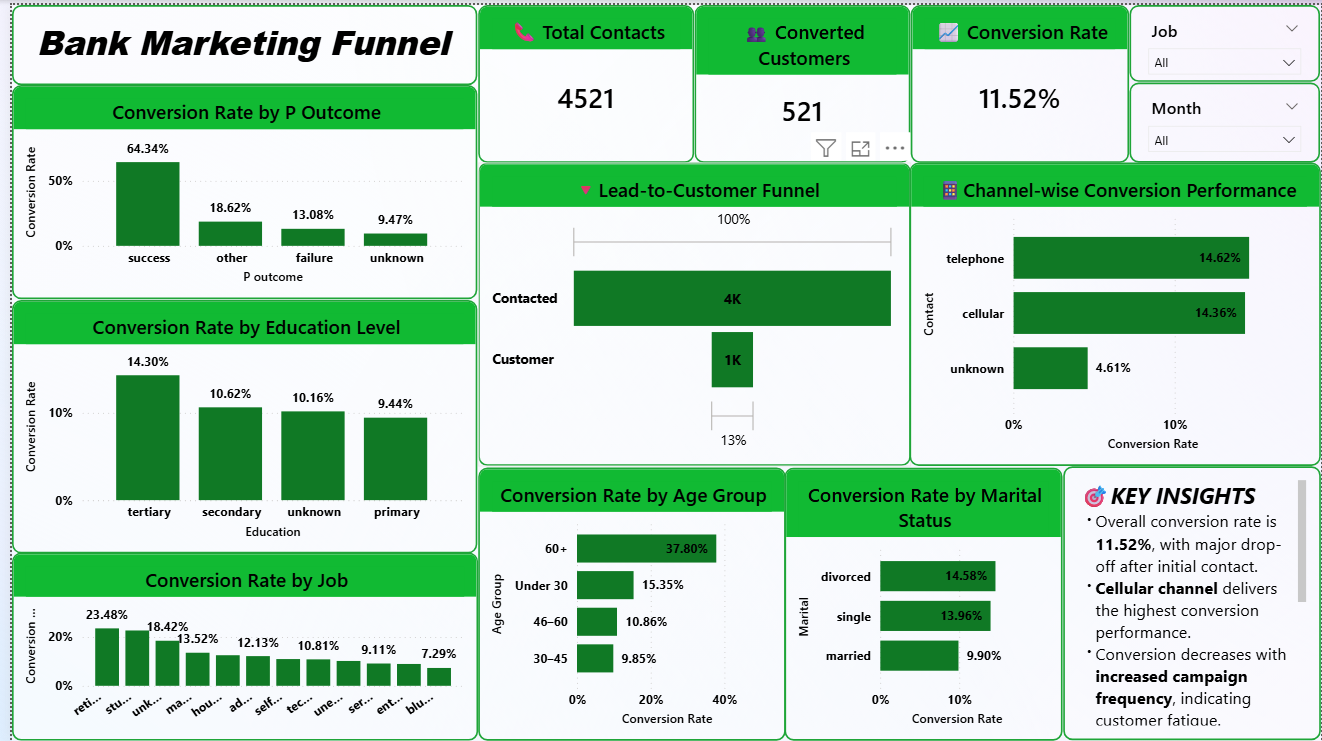

The page's visual inventory and layout, read from the dashboard file:
{"tool":"powerbi","page":{"name":"Page 1","canvas":[1280,720],"ordinal":0},"visuals":[{"type":"card","title":"Total Contacts","fields":{"Values":["Cleaned_Bank_data.Total Contacts"]},"box":[455.6,0,211.3,153.7],"z":0},{"type":"card","title":"Converted Customers","fields":{"Values":["Cleaned_Bank_data.Total Customers"]},"box":[666.9,0,219.6,153.7],"z":1000},{"type":"card","title":"Conversion Rate","fields":{"Values":["Cleaned_Bank_data.Conversion Rate"]},"box":[886.6,0,210.3,154.1],"z":2000},{"type":"funnel","title":"Lead-to-Customer Funnel","fields":{"Y":["Cleaned_Bank_data.Funnel Count"],"Category":["Cleaned_Bank_data.Funnel Stage"]},"box":[455.6,153.7,413,299.1],"z":3000},{"type":"clusteredBarChart","title":"Channel-wise Conversion Performance","fields":{"Category":["Cleaned_Bank_data.Contact"],"Y":["Cleaned_Bank_data.Conversion Rate"]},"box":[868.6,153.7,411.7,299.1],"z":4000},{"type":"slicer","fields":{"Values":["Cleaned_Bank_data.Month"]},"box":[1093.7,75.5,186.6,78.2],"z":5000},{"type":"slicer","fields":{"Values":["Cleaned_Bank_data.Job"]},"box":[1093.7,0,186.6,75.5],"z":6000},{"type":"clusteredBarChart","title":"Conversion Rate by Marital Status","fields":{"Category":["Cleaned_Bank_data.Marital"],"Y":["Cleaned_Bank_data.Conversion Rate"]},"box":[756.1,452.8,271.7,267.6],"z":7000},{"type":"clusteredColumnChart","title":"Conversion Rate by Education Level","fields":{"Category":["Cleaned_Bank_data.Education"],"Y":["Cleaned_Bank_data.Conversion Rate"]},"box":[0,288.2,455.6,248.4],"z":8000},{"type":"clusteredBarChart","fields":{"Category":["Cleaned_Bank_data.Age Group"],"Y":["Cleaned_Bank_data.Conversion Rate"]},"box":[455.6,452.8,300.5,267.6],"z":9000},{"type":"clusteredColumnChart","title":"Conversion Rate by P Outcome","fields":{"Y":["Cleaned_Bank_data.Conversion Rate"],"Category":["Cleaned_Bank_data.P out Come"]},"box":[0,78.2,455.6,209.9],"z":10000},{"type":"textbox","title":"Bank Marketing Funnel","box":[0,0,455.6,78.2],"z":11000},{"type":"clusteredColumnChart","fields":{"Category":["Cleaned_Bank_data.Job"],"Y":["Cleaned_Bank_data.Conversion Rate"]},"box":[0,536,456,184],"z":12000},{"type":"textbox","box":[1028.4,451.2,251.9,267.8],"z":13000}]}

Visuals, with their boxes in screenshot pixels (x1, y1, x2, y2), scaled from the page's 1280x720 canvas onto the 1322x741 screenshot:
"Total Contacts" card: 471:0:689:158
"Converted Customers" card: 689:0:916:158
"Conversion Rate" card: 916:0:1133:159
"Lead-to-Customer Funnel" funnel: 471:158:897:466
"Channel-wise Conversion Performance" clusteredBarChart: 897:158:1321:466
slicer - Cleaned_Bank_data.Month: 1130:78:1321:158
slicer - Cleaned_Bank_data.Job: 1130:0:1321:78
"Conversion Rate by Marital Status" clusteredBarChart: 781:466:1062:740
"Conversion Rate by Education Level" clusteredColumnChart: 0:297:471:552
clusteredBarChart - Cleaned_Bank_data.Age Group x Cleaned_Bank_data.Conversion Rate: 471:466:781:740
"Conversion Rate by P Outcome" clusteredColumnChart: 0:80:471:297
"Bank Marketing Funnel" textbox: 0:0:471:80
clusteredColumnChart - Cleaned_Bank_data.Job x Cleaned_Bank_data.Conversion Rate: 0:552:471:740
textbox: 1062:464:1321:740
